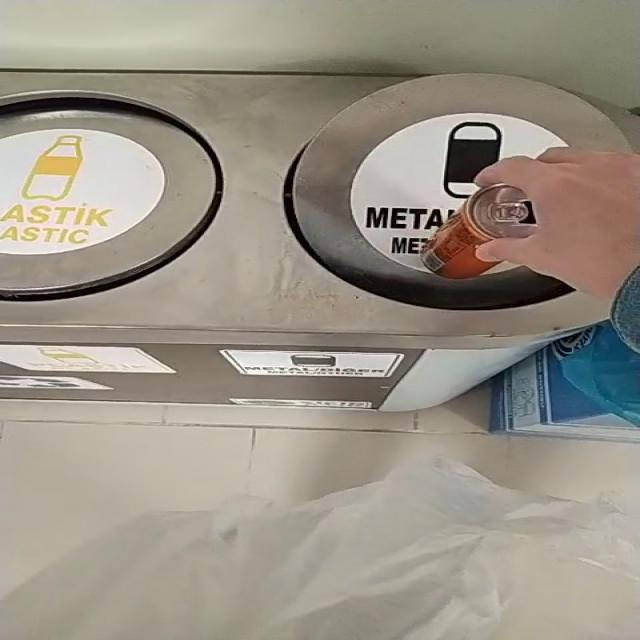bin: (1, 74, 607, 406)
metal: (421, 184, 537, 279)
